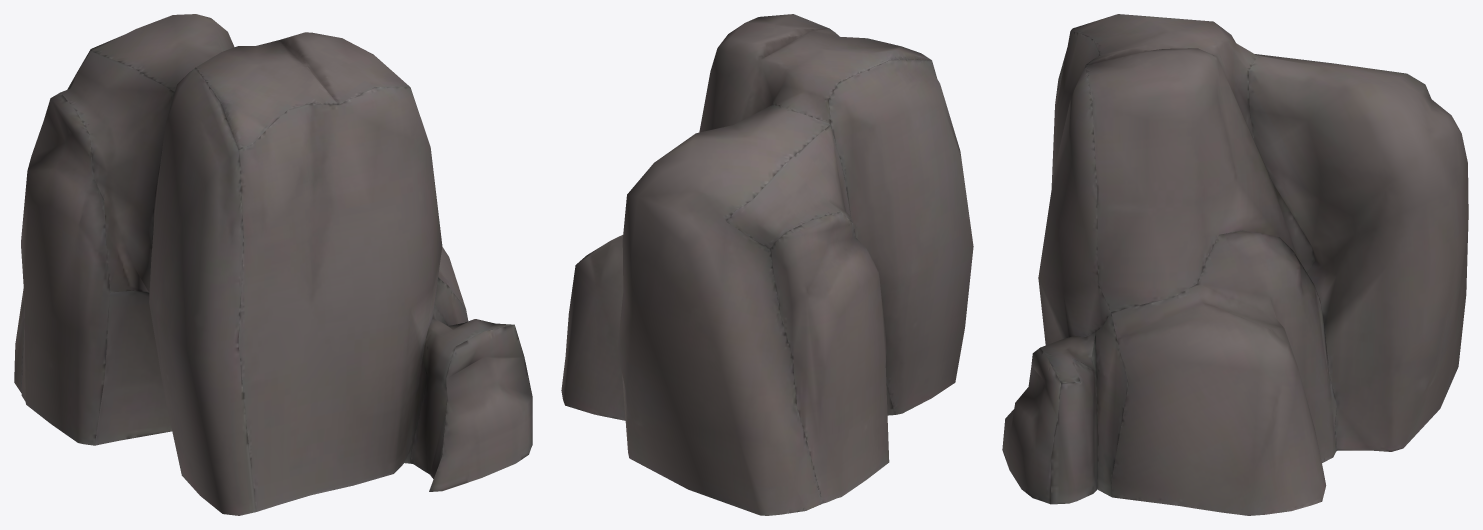
3 views of the same model, side by side, from view 1: azimuth 30°, elevation 25°; view 2: azimuth 150°, elevation 25°; view 3: azimuth 270°, elevation 25° (orthographic). The views are drawn at different scales.
Parts seen in each view (by area): view 1: body0_model0_lod0_mesh0; view 2: body0_model0_lod0_mesh0; view 3: body0_model0_lod0_mesh0.
Part boxes in pixels (x1,y1,x2,y2): body0_model0_lod0_mesh0: [14, 14, 532, 515]; body0_model0_lod0_mesh0: [561, 14, 973, 515]; body0_model0_lod0_mesh0: [1002, 14, 1468, 515].
Bounding box in the file's own units: 215 × 221 × 247.
Materials: 1 (1 with a texture image).
